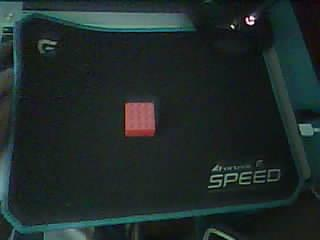lego: (124, 101, 156, 137)
